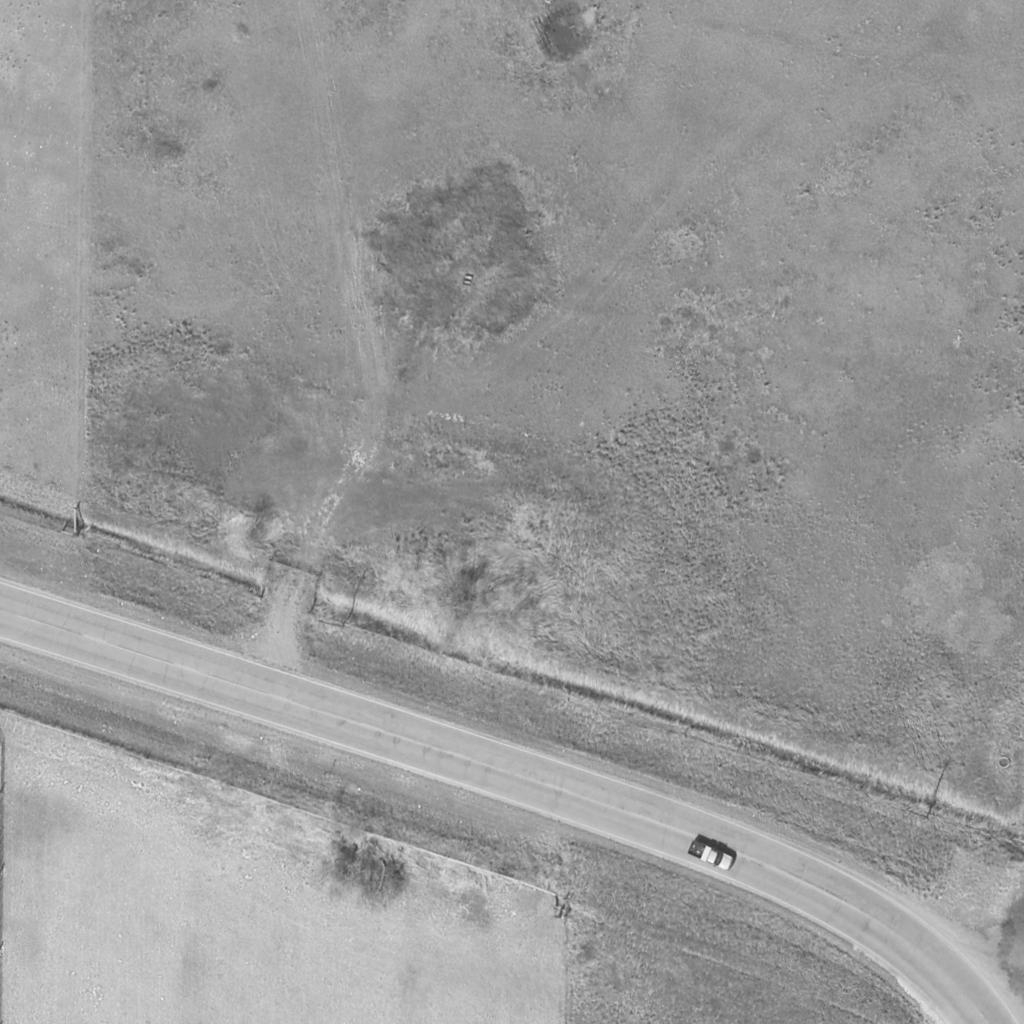vehicle: (689, 840, 737, 870)
